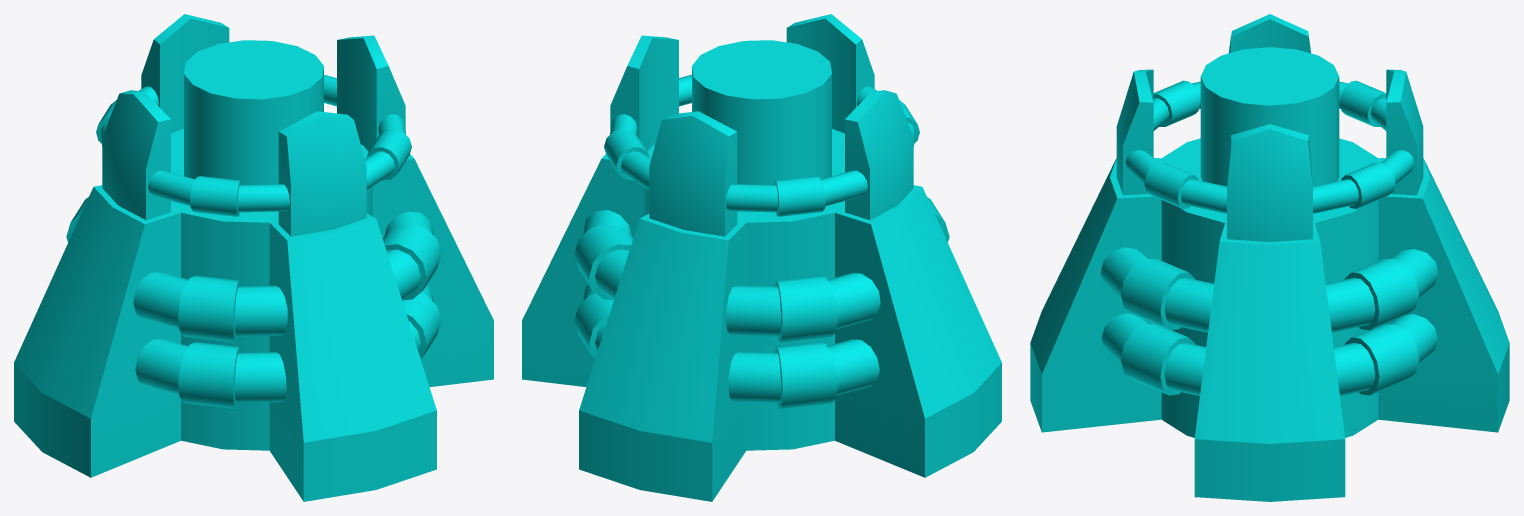
3 renders of one model, left to right at view 1: azimuth 30°, elevation 25°; view 2: azimuth 150°, elevation 25°; view 3: azimuth 270°, elevation 25°, orthographic.
Parts seen in each view (by area): view 1: polySurface2; view 2: polySurface2; view 3: polySurface2.
Part boxes in pixels (bbox=[...]): polySurface2: bbox=[14, 14, 493, 501]; polySurface2: bbox=[522, 14, 1001, 501]; polySurface2: bbox=[1030, 14, 1509, 501].
Size of the model in its own units: 7.12 by 5.4 by 7.12.
